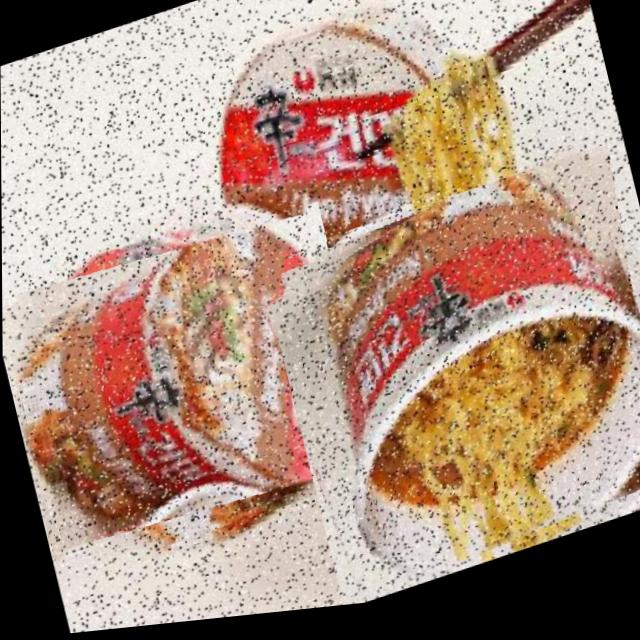Miscellaneous: (258, 150, 640, 619), (2, 186, 370, 583)
